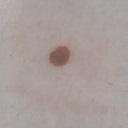Melanoma: (47, 43, 73, 68)
